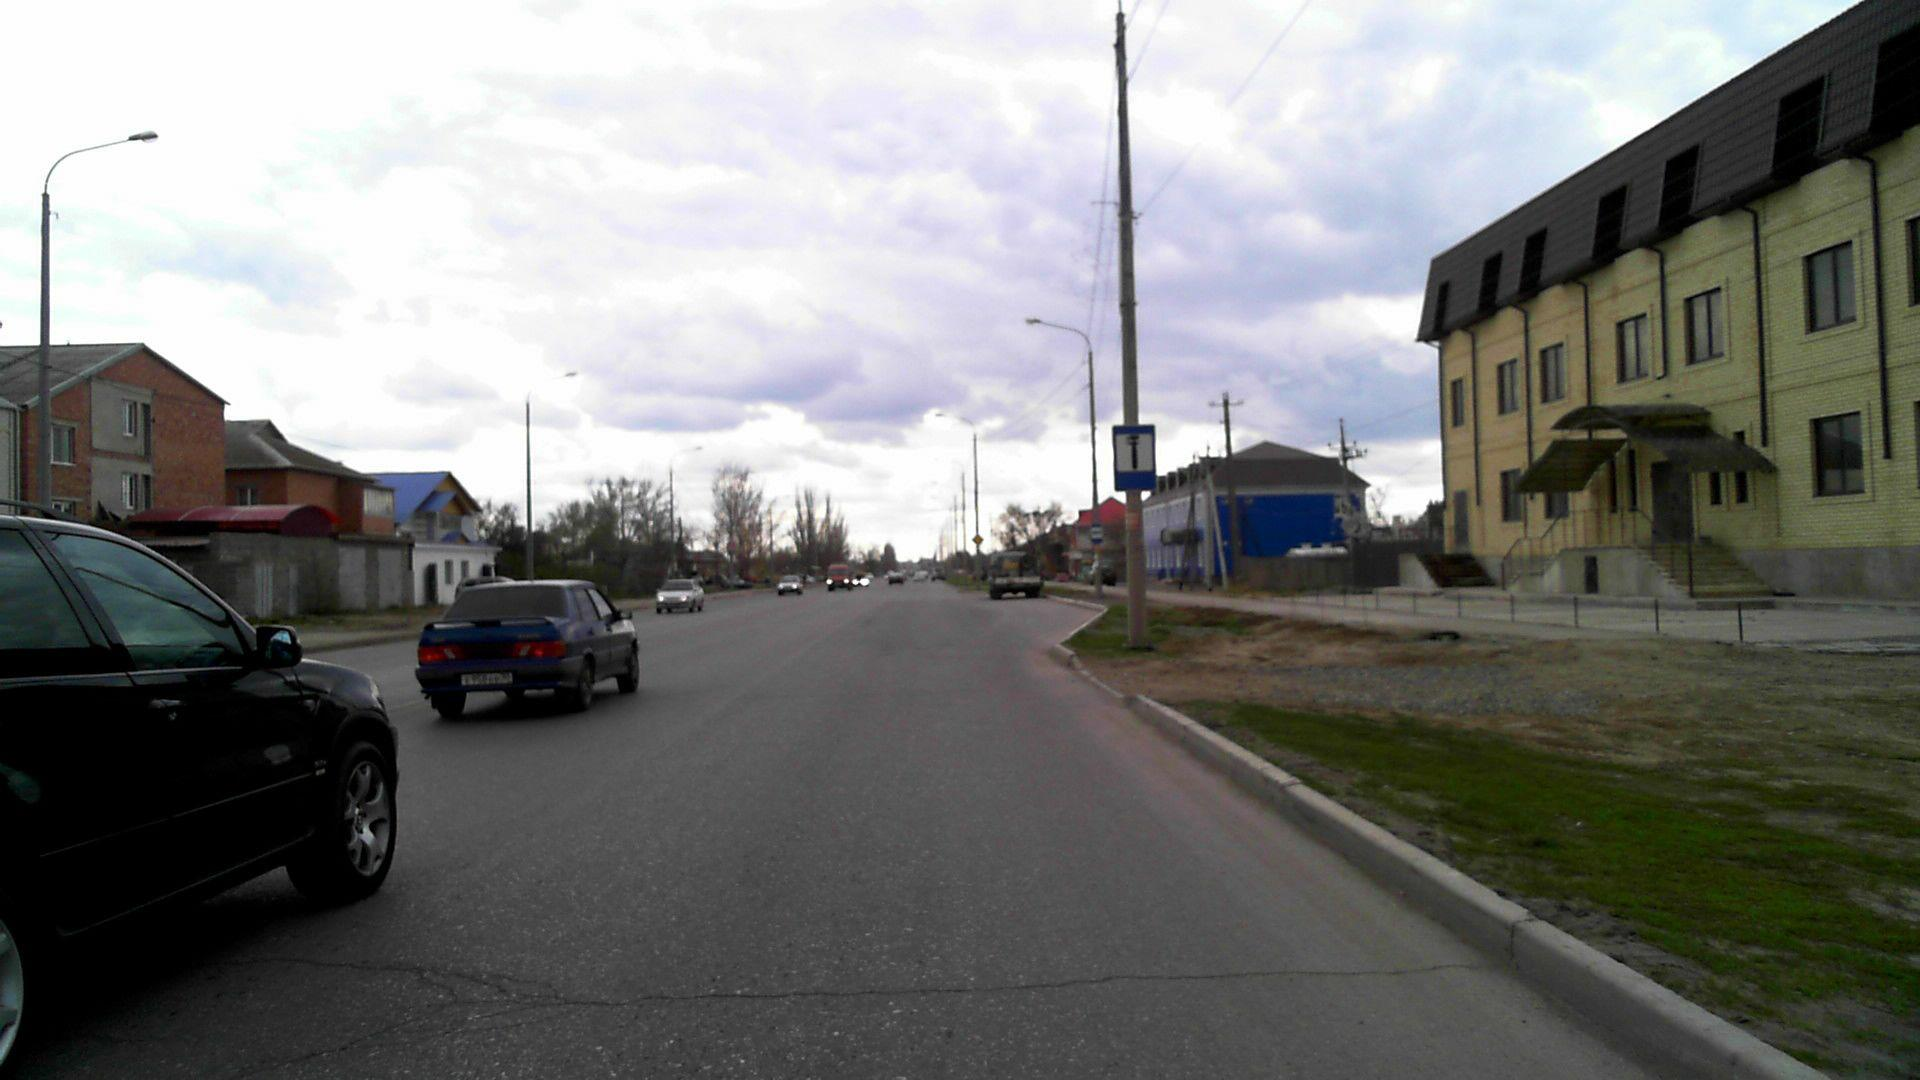2_1: (972, 534, 982, 545)
5_16: (1091, 524, 1105, 543)
7_4: (1116, 423, 1156, 488)
